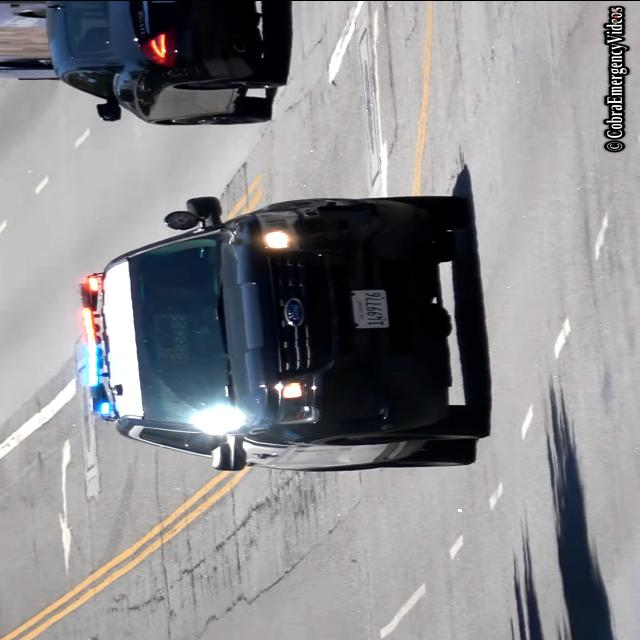emergency-vehicles: (66, 173, 512, 495)
